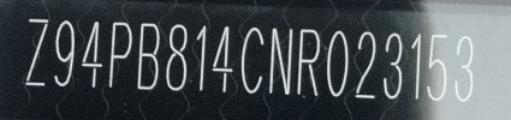letter: (21, 14, 51, 90), (296, 24, 323, 100), (265, 25, 293, 97), (52, 17, 78, 93), (353, 26, 379, 102), (163, 21, 190, 93), (324, 26, 350, 100), (424, 29, 449, 105), (105, 18, 132, 88), (210, 23, 237, 93), (136, 21, 162, 93), (79, 19, 105, 90), (239, 25, 264, 97), (452, 33, 476, 105), (382, 30, 406, 101), (409, 30, 424, 101), (193, 22, 208, 92)
